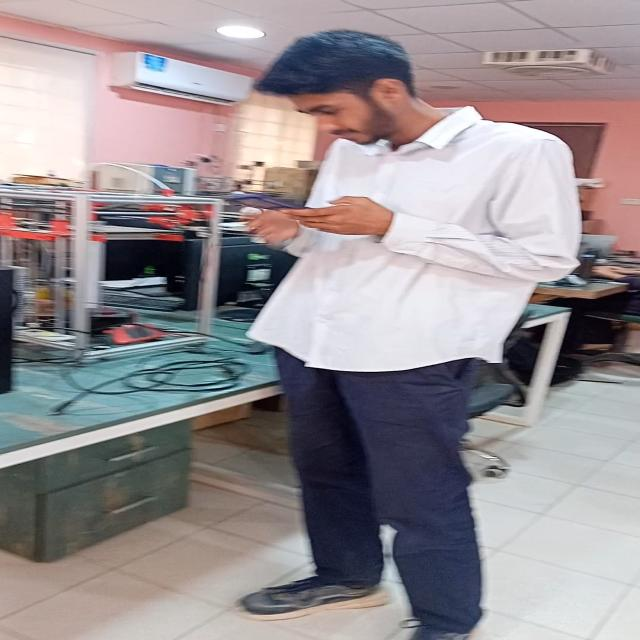dress: (236, 102, 588, 636)
